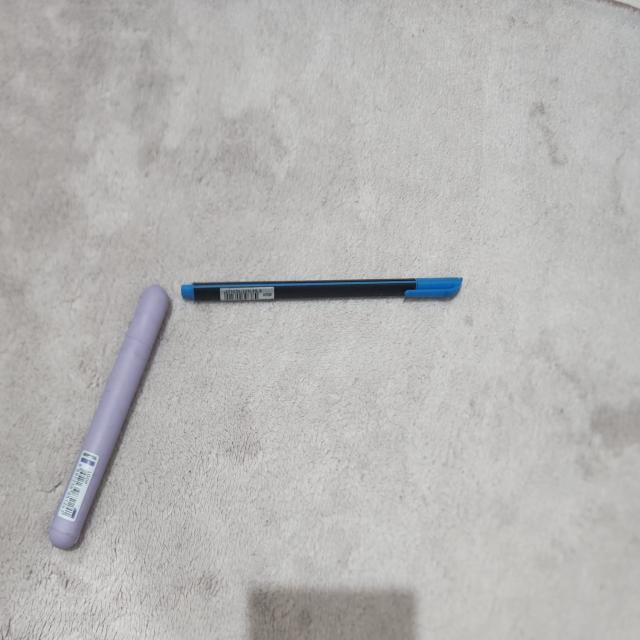kalem1: (180, 278, 463, 300)
kalem2: (48, 285, 171, 550)
